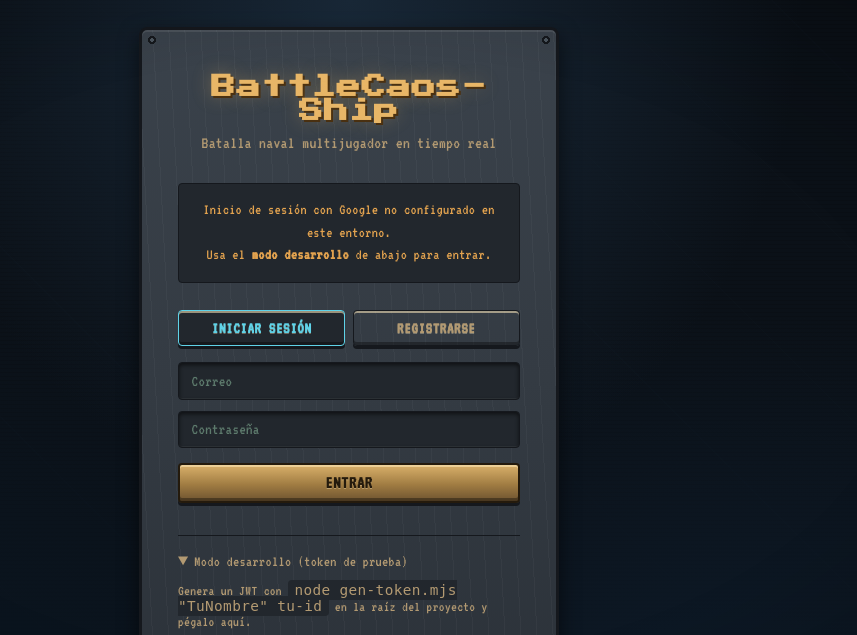
Test case: LoginPage › si el backend responde con un token mal formado, muestra error_desconocido y no navega
Type "ana@test.com" into the field with placeholder "Correo" at (349, 381), box 178,362 -> 520,400
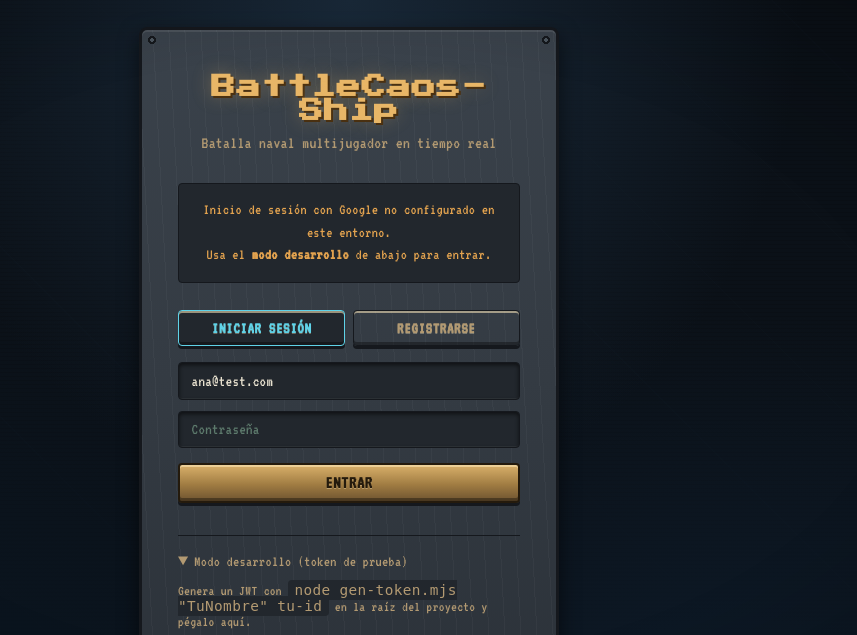
Type "secreta1" into the password field with placeholder "Contraseña" at (349, 429), box 178,410 -> 520,448
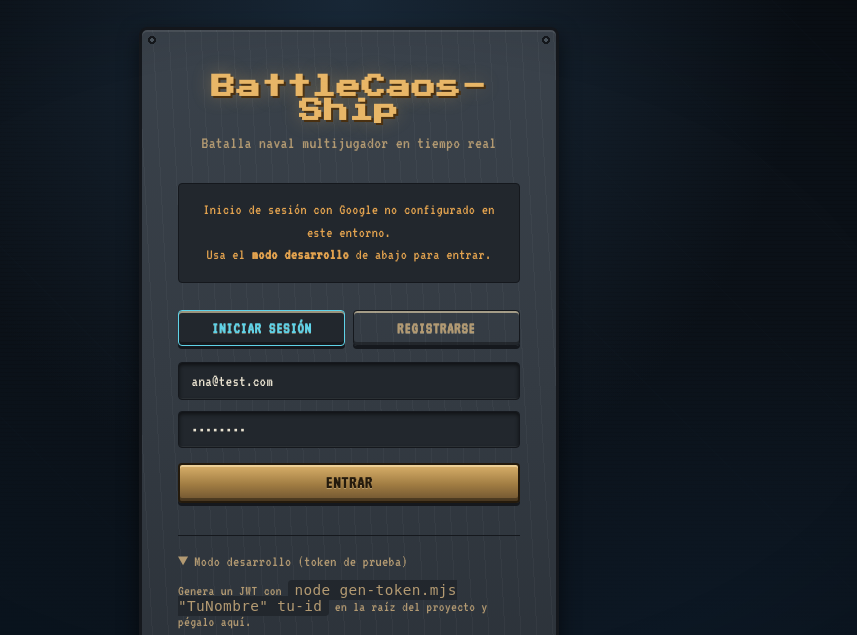
Click the button "Entrar" at (349, 483), box 178,463 -> 520,503
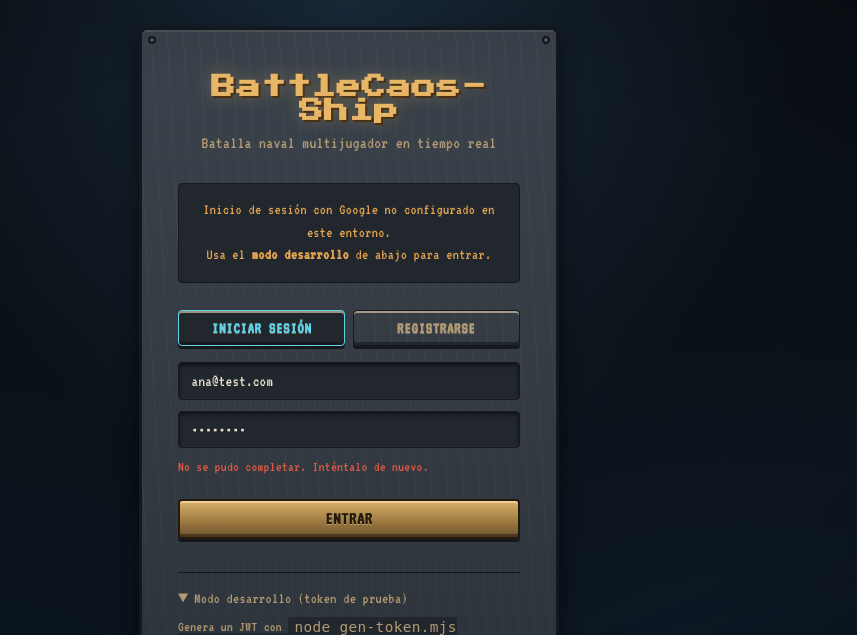
Expected: the message reads "No se pudo completar. Inténtalo de nuevo.", 178,459 -> 429,474
